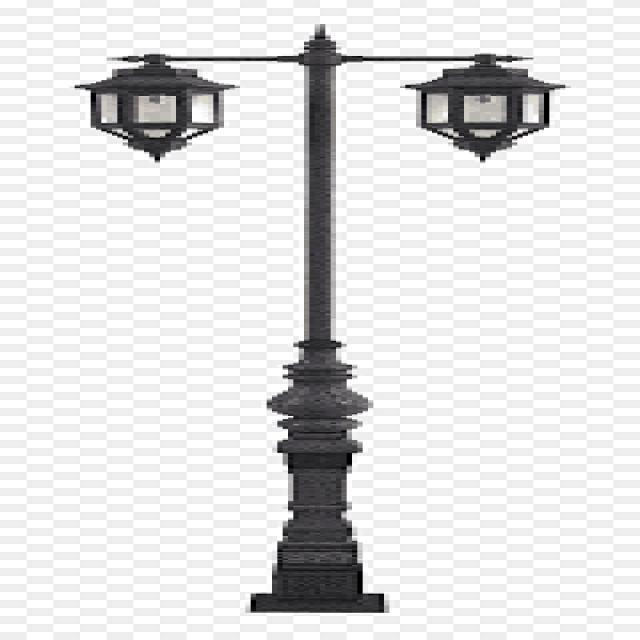Street Light: (70, 26, 566, 614)
